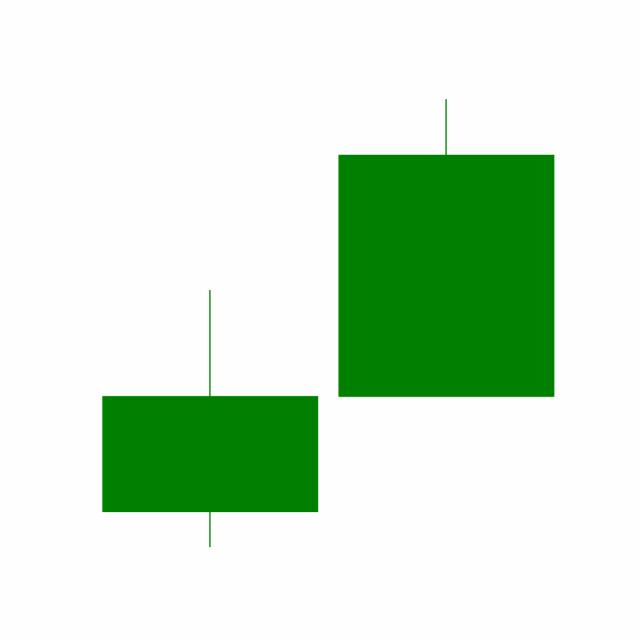Marubozu: (327, 95, 565, 400)
